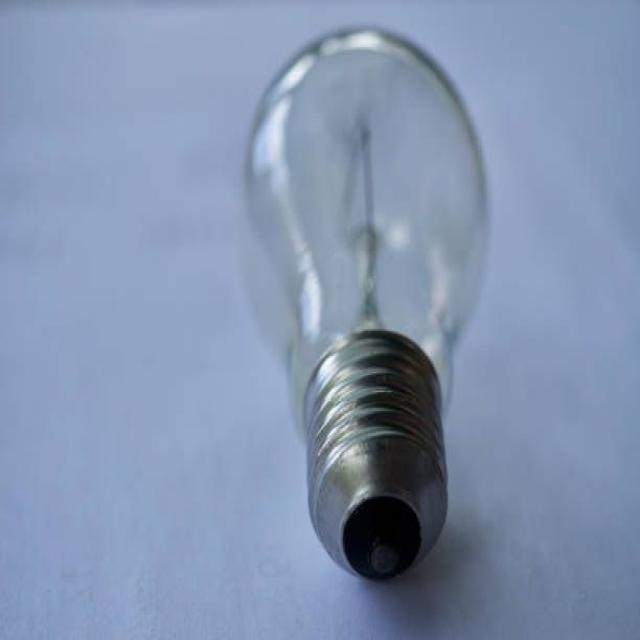electronic: (240, 22, 490, 582)
